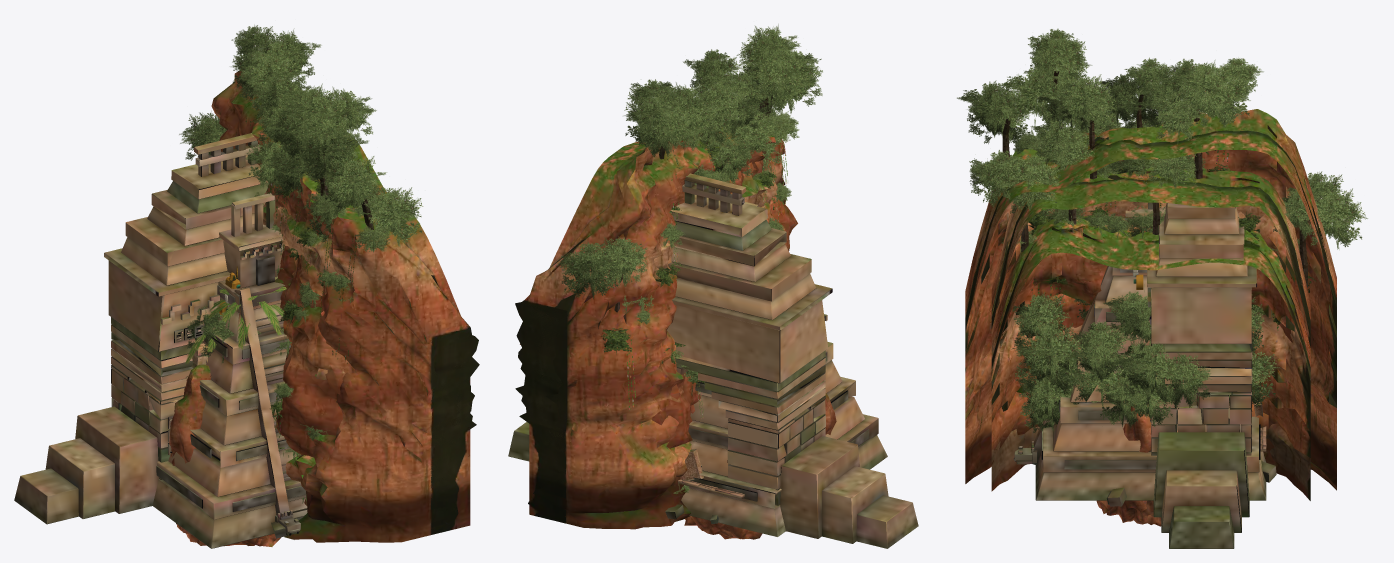
The model's file is kit.mobile.glb.
3 views of the same model, side by side, from view 1: azimuth 30°, elevation 25°; view 2: azimuth 150°, elevation 25°; view 3: azimuth 270°, elevation 25° (orthographic). The views are drawn at different scales.
Visible parts, largest first — view 1: cliff_wall_2, face_gate_0, temple_0, cliff_wall_2_veg, cliff_wall_1, cliff_wall_1_veg, cliff_wall_0_veg, rock_big_0, cliff_wall_0, tree_big_1_crown, palm_2_crown; view 2: cliff_wall_2, face_gate_0, cliff_wall_2_veg, temple_0, cliff_wall_1_veg, cliff_wall_0_veg, cliff_wall_1, rock_big_0; view 3: face_gate_0, cliff_wall_2, cliff_wall_0, temple_0, cliff_wall_1, cliff_wall_2_veg, cliff_wall_0_veg, cliff_wall_1_veg, jungle_bank_2, canopy_1, jungle_bank_1, canopy_0 (+6 smaller).
Part boxes in pixels (x1,y1,x2,y2): cliff_wall_2: (211,69,479,542); face_gate_0: (14,133,268,524); temple_0: (152,193,307,548); cliff_wall_2_veg: (179,25,391,460); cliff_wall_1: (263,183,354,505); cliff_wall_1_veg: (236,29,376,451); cliff_wall_0_veg: (245,139,423,435); rock_big_0: (169,365,280,546); cliff_wall_0: (284,246,344,481); tree_big_1_crown: (187,305,291,362); palm_2_crown: (203,286,291,349); cliff_wall_2: (515,127,797,529); face_gate_0: (508,173,918,548); cliff_wall_2_veg: (556,24,822,410); temple_0: (665,202,887,536); cliff_wall_1_veg: (624,49,784,419); cliff_wall_0_veg: (622,101,784,442); cliff_wall_1: (652,160,784,447); rock_big_0: (691,393,836,530); face_gate_0: (1147,112,1256,548); cliff_wall_2: (965,109,1336,490); cliff_wall_0: (991,215,1310,500); temple_0: (1013,202,1276,506); cliff_wall_1: (991,167,1310,471); cliff_wall_2_veg: (957,28,1367,292); cliff_wall_0_veg: (969,113,1299,376); cliff_wall_1_veg: (1038,58,1251,215); jungle_bank_2: (1011,292,1280,431); canopy_1: (1095,295,1190,427); jungle_bank_1: (1015,321,1253,432); canopy_0: (1118,325,1211,426).
Bounding box in the file's own units: 31.79 × 36.83 × 29.97.
Materials: 14 (14 with a texture image).
